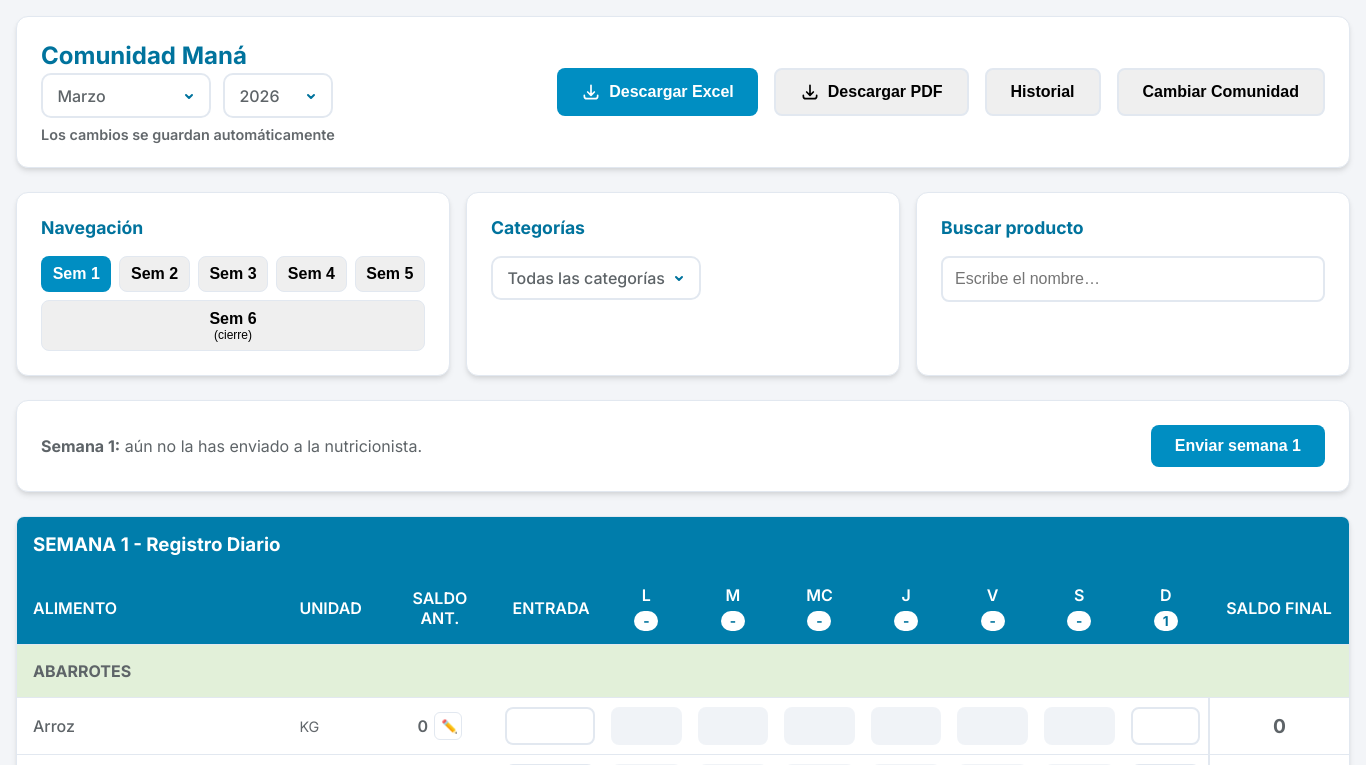
kardex: buscador de productos › se combina con la categoría: busca solo dentro de la elegida
This screenshot has width=1366, height=765.
Click the button "Todas las categorías": (596, 278) [491,256,701,300]
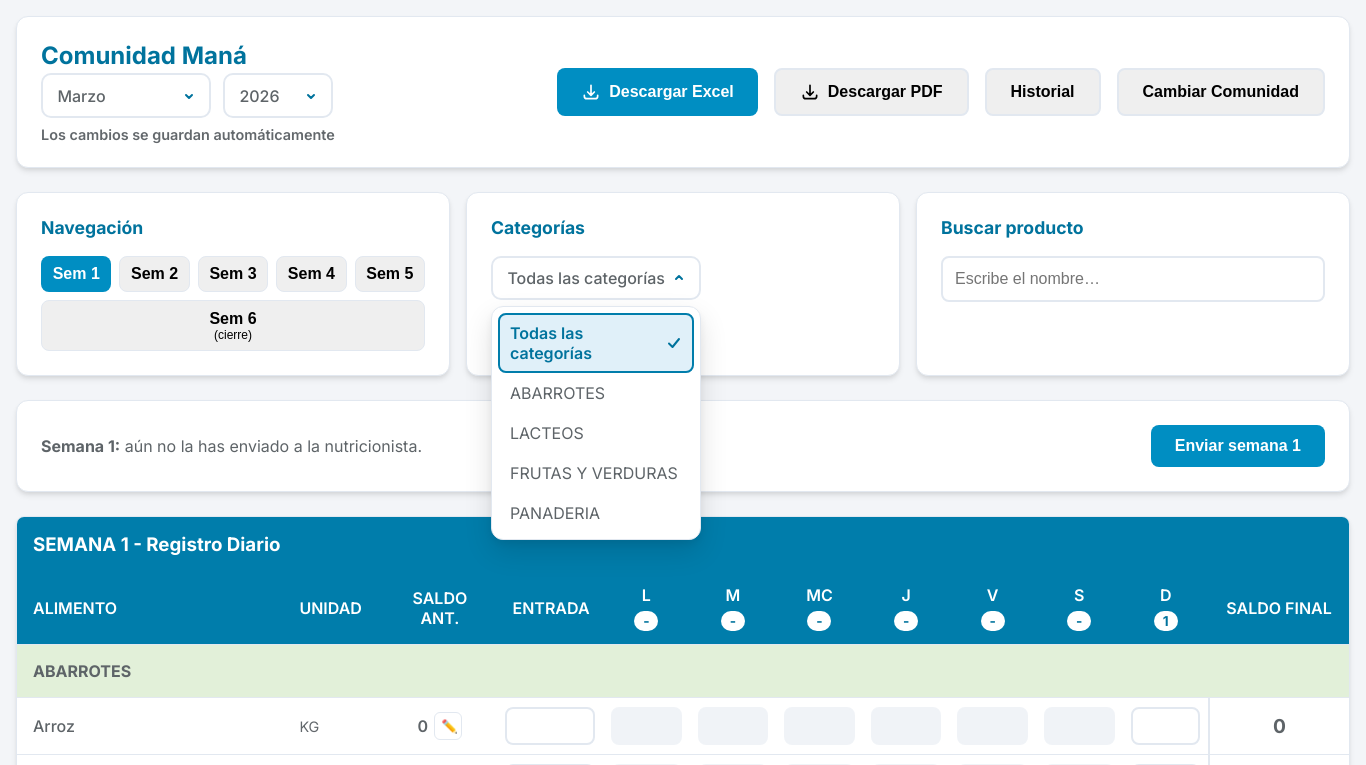
Click the option "ABARROTES": (558, 393) [510,383,605,403]
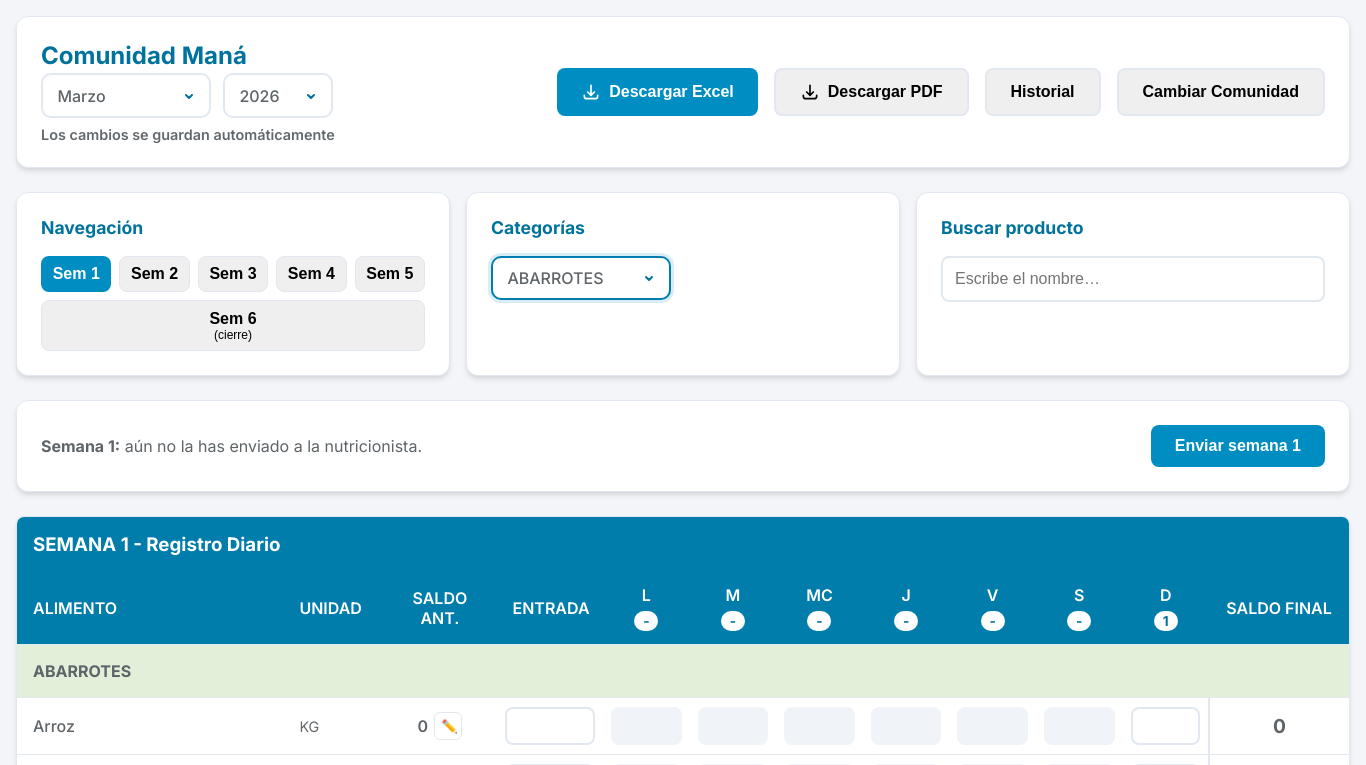
In the search field named "Buscar producto": (1133, 279) [941,256,1325,302], type "leche"
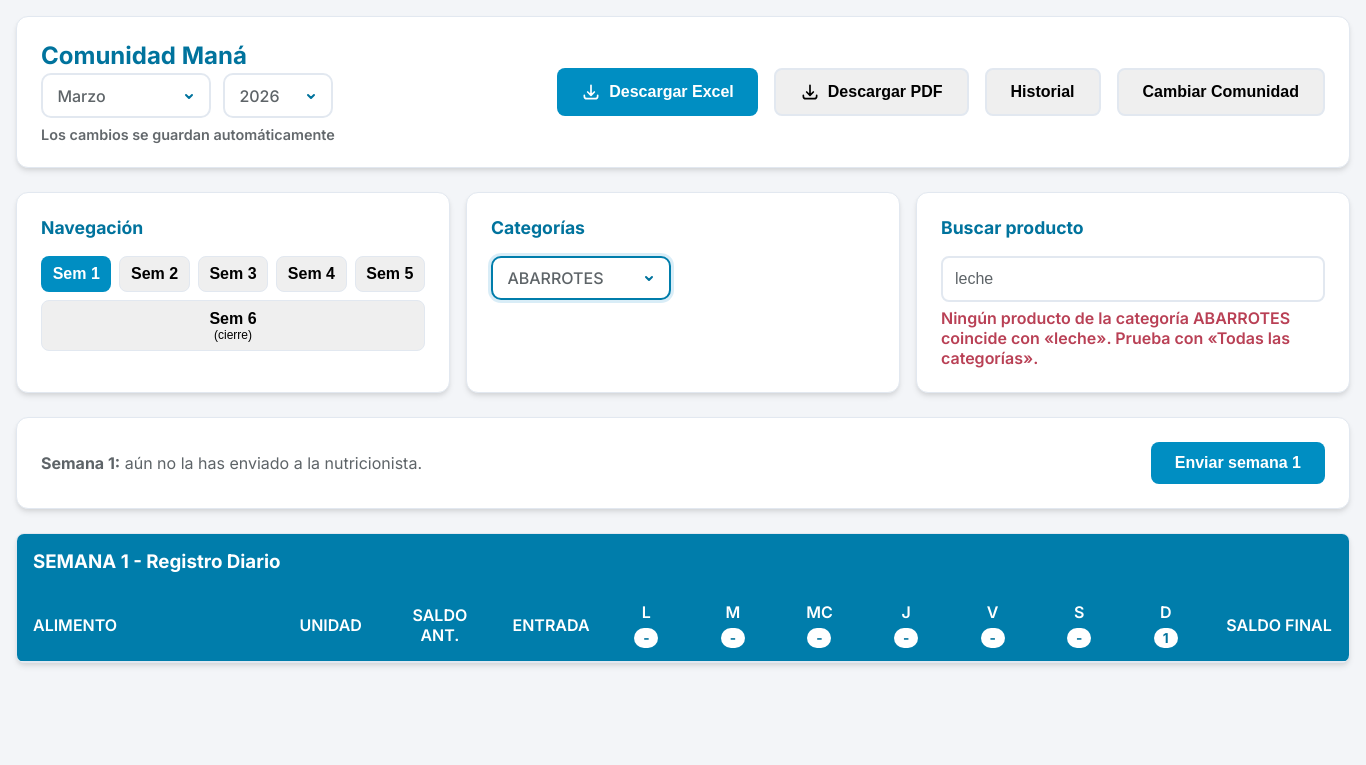
Now the text "Ningún producto de la categoría ABARROTES coincide con «leche»" is shown, box [941,308,1290,368]
